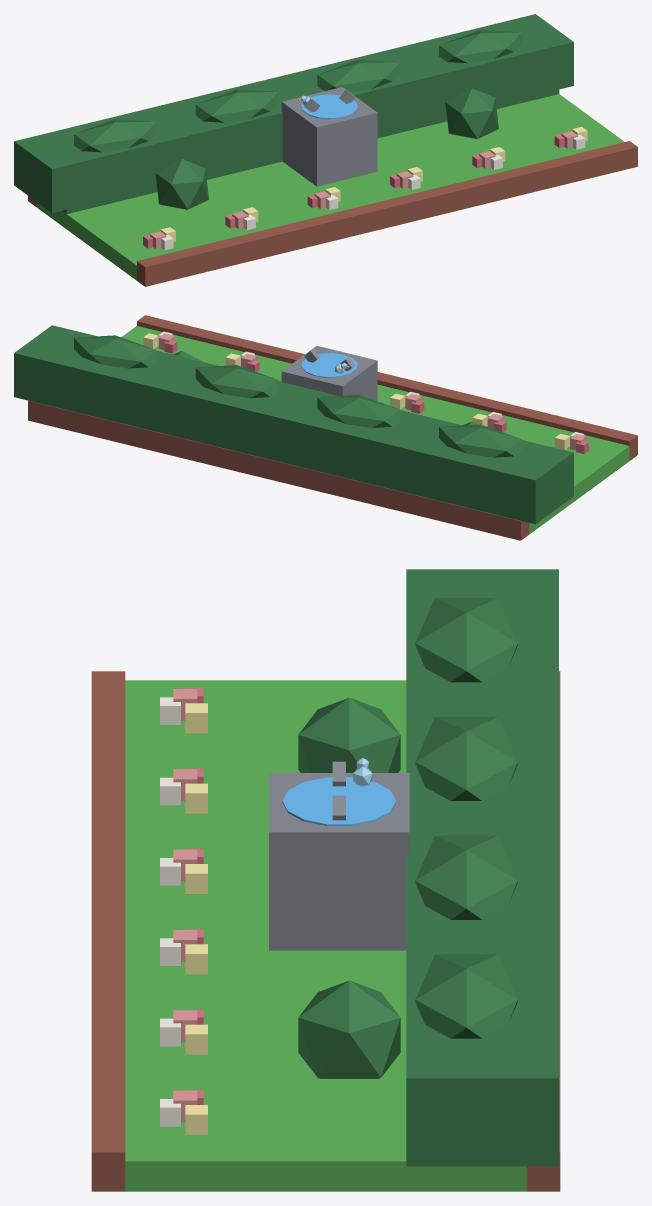
File: CatCafe_Square_GardenMid.glb
3 views of the same model, one above another, from view 1: azimuth 30°, elevation 25°; view 2: azimuth 150°, elevation 25°; view 3: azimuth 270°, elevation 25° (orthographic). The views are drawn at different scales.
Visible parts, largest first — view 1: CatCafe_Square_GardenMid, CatCafe_Square_GardenMid_Tops_Decor, CatCafe_Square_GardenMid_Barrier, CatCafe_Square_GardenMid_Flowers; view 2: CatCafe_Square_GardenMid, CatCafe_Square_GardenMid_Tops_Decor, CatCafe_Square_GardenMid_Flowers, CatCafe_Square_GardenMid_Barrier; view 3: CatCafe_Square_GardenMid, CatCafe_Square_GardenMid_Tops_Decor, CatCafe_Square_GardenMid_Barrier, CatCafe_Square_GardenMid_Flowers.
Boxes of the visible parts, x1=… form: CatCafe_Square_GardenMid: x1=14, y1=14, x2=637, y2=286; CatCafe_Square_GardenMid_Tops_Decor: x1=74, y1=30, x2=521, y2=152; CatCafe_Square_GardenMid_Barrier: x1=281, y1=87, x2=377, y2=186; CatCafe_Square_GardenMid_Flowers: x1=143, y1=127, x2=587, y2=250; CatCafe_Square_GardenMid: x1=14, y1=315, x2=637, y2=540; CatCafe_Square_GardenMid_Tops_Decor: x1=74, y1=335, x2=521, y2=457; CatCafe_Square_GardenMid_Flowers: x1=143, y1=331, x2=588, y2=453; CatCafe_Square_GardenMid_Barrier: x1=281, y1=346, x2=377, y2=401; CatCafe_Square_GardenMid: x1=91, y1=569, x2=560, y2=1191; CatCafe_Square_GardenMid_Tops_Decor: x1=415, y1=598, x2=517, y2=1038; CatCafe_Square_GardenMid_Barrier: x1=269, y1=773, x2=409, y2=950; CatCafe_Square_GardenMid_Flowers: x1=160, y1=688, x2=207, y2=1134.
Bounding box in the file's own units: 18 × 2.86 × 7.
1 material, 1 textured.
